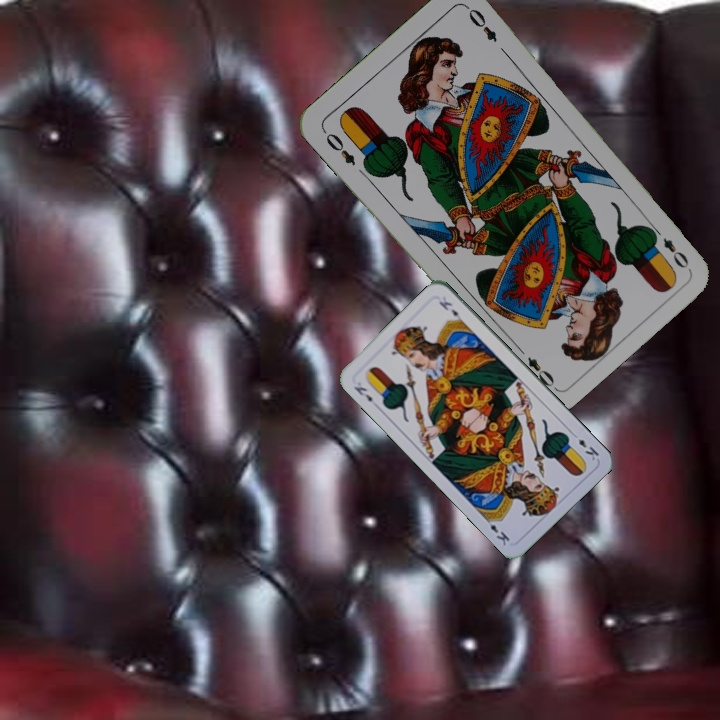EK: (568, 429, 601, 463), (350, 382, 375, 405)
EO: (647, 222, 692, 271), (318, 126, 359, 168)
